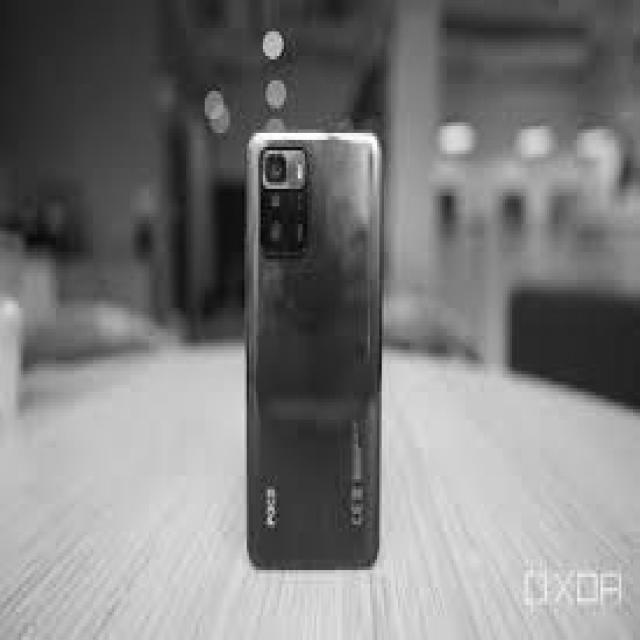No gun_phone: (246, 130, 382, 569)
